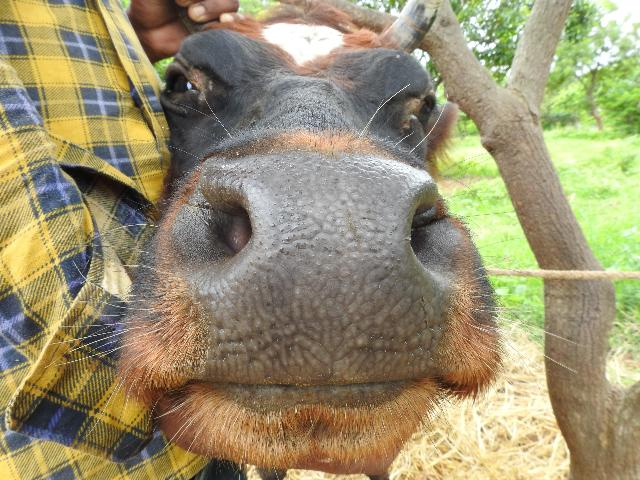Muzzle: (208, 168, 428, 376)
